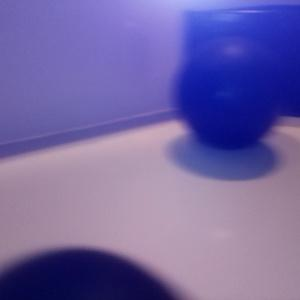dead_ball: (175, 36, 276, 148), (1, 248, 181, 300)
